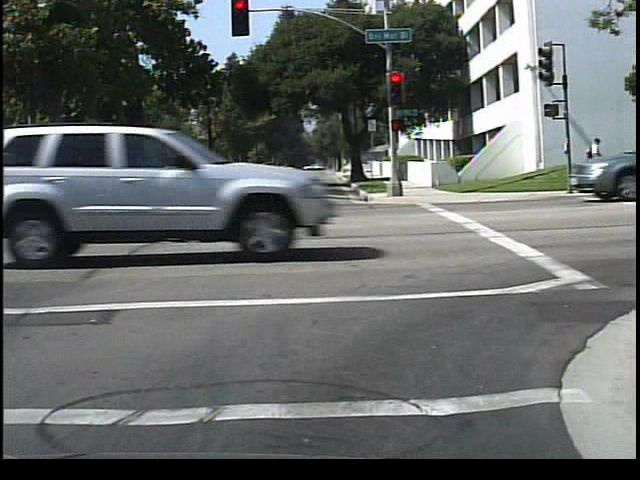person: (584, 128, 608, 185)
